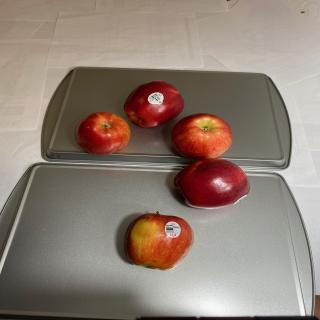Apple: (124, 211, 194, 271), (174, 158, 250, 209), (124, 80, 184, 128), (171, 113, 232, 160), (74, 112, 130, 155)
